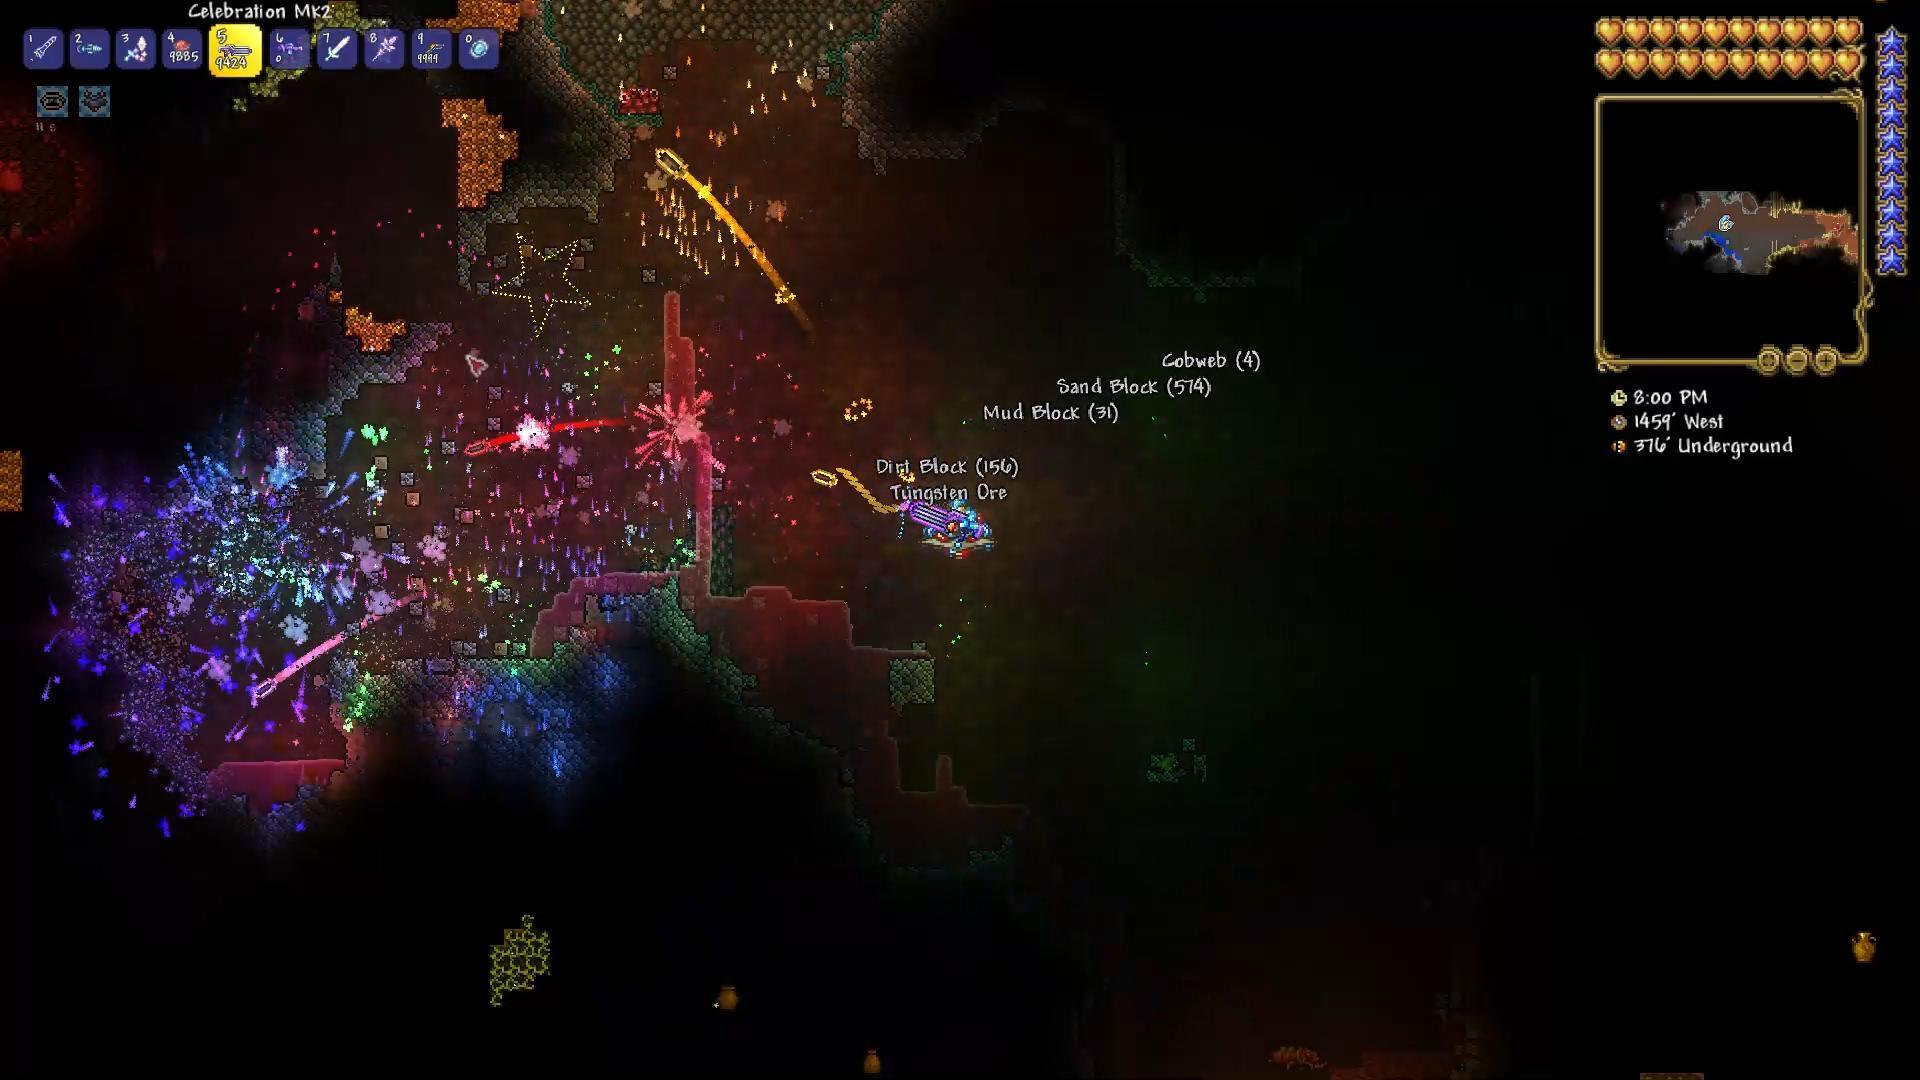altar: (611, 78, 665, 119)
pot: (716, 980, 741, 1015), (861, 1044, 885, 1073)
